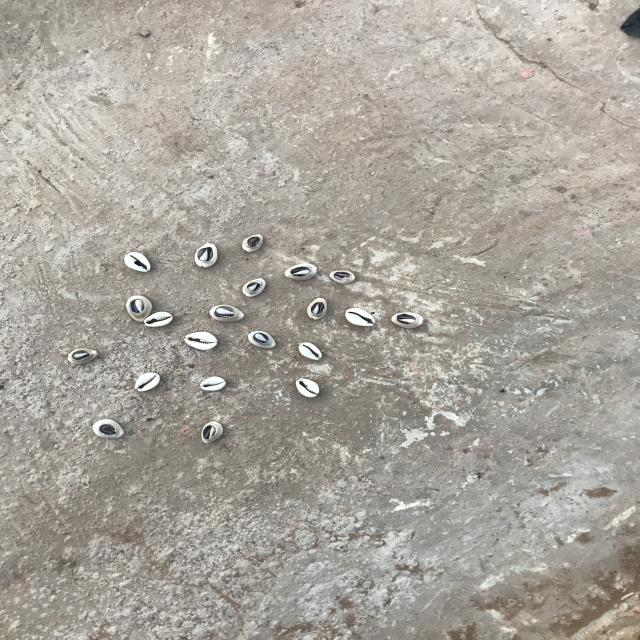facedown: (124, 294, 152, 322), (193, 242, 220, 269), (92, 418, 123, 441), (390, 311, 425, 331), (64, 346, 100, 365), (208, 304, 246, 322), (283, 262, 320, 280), (198, 420, 224, 444), (304, 296, 330, 320), (240, 276, 266, 299), (247, 330, 278, 349), (241, 233, 264, 254), (329, 270, 355, 286)
faceup: (182, 330, 218, 353), (122, 250, 152, 273), (346, 307, 377, 328), (133, 370, 162, 392), (295, 378, 322, 400), (200, 375, 227, 394), (146, 310, 173, 328), (298, 343, 323, 362)
